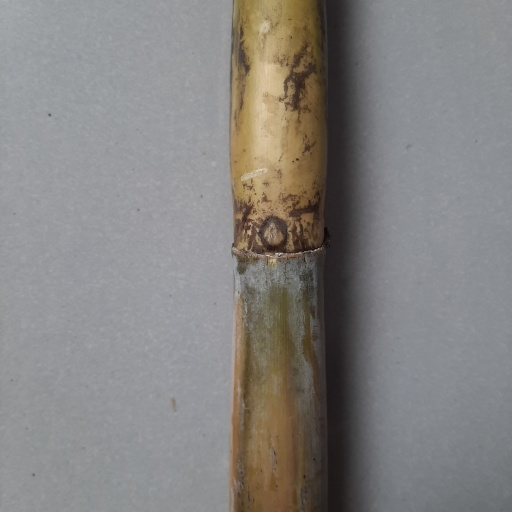Bud: (260, 219, 287, 253)
